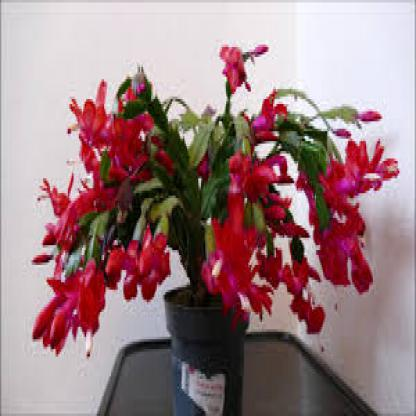Holiday Cactus: (15, 6, 392, 365)
